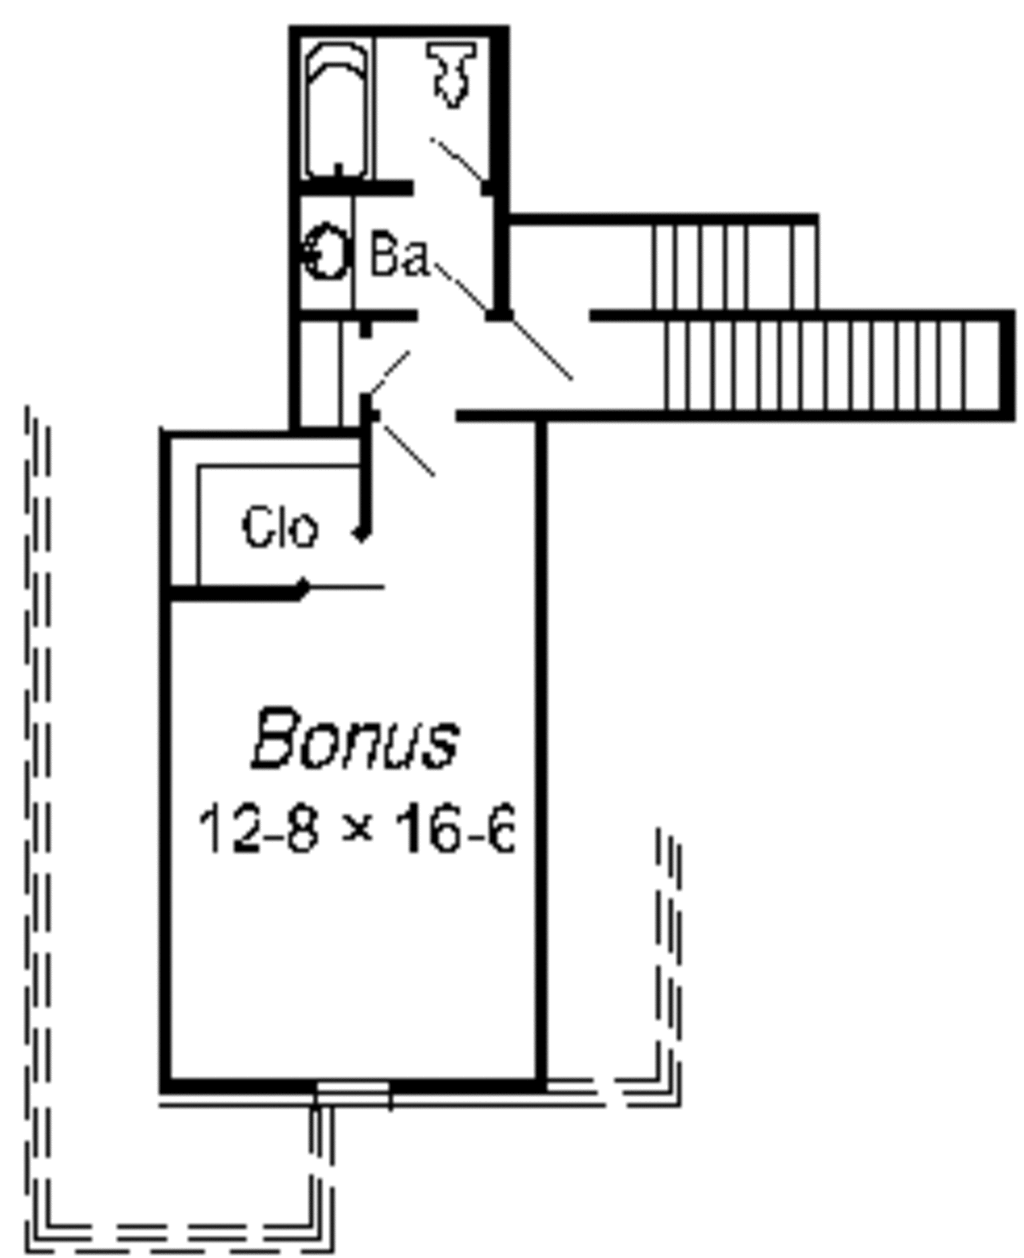door: (486, 302, 577, 409), (397, 253, 485, 313), (354, 326, 417, 407)
large_sink: (415, 40, 484, 129)
small_sink: (292, 195, 367, 304)
stairs: (533, 204, 1024, 430)
tub: (301, 34, 380, 188)
